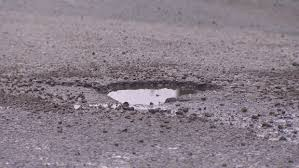pothole: (87, 68, 211, 116)
